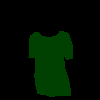t-shirt: (28, 30, 73, 96)
